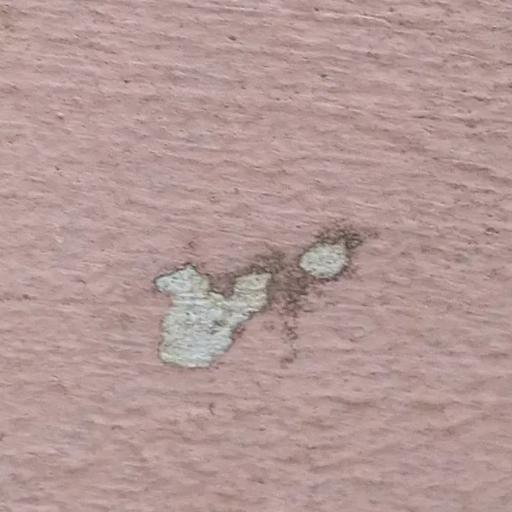peeling: (153, 214, 370, 376)
